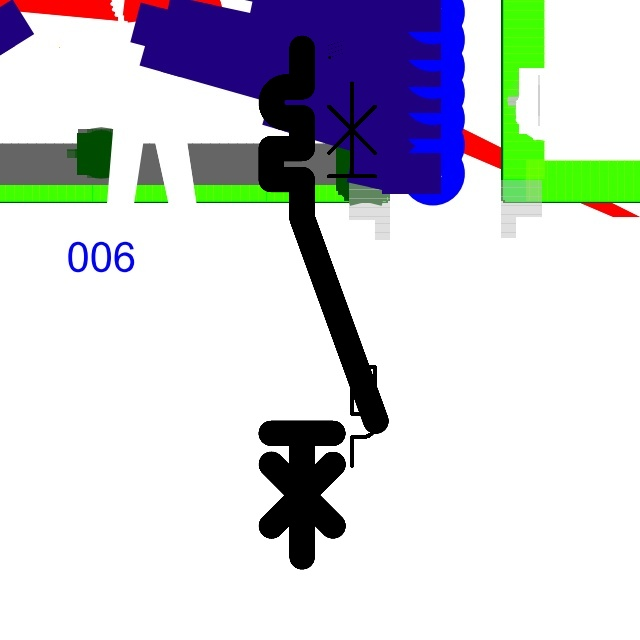interruptor_termomagnetico: (258, 35, 389, 570), (287, 73, 385, 476)
